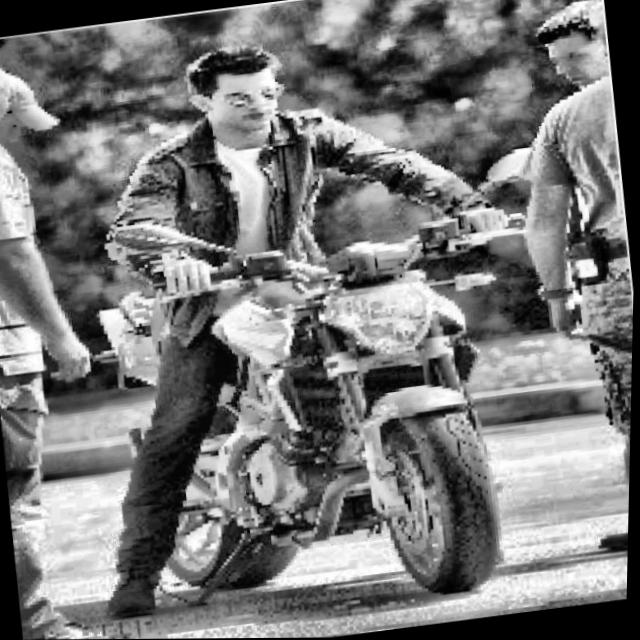motorcycle: (79, 148, 625, 627)
